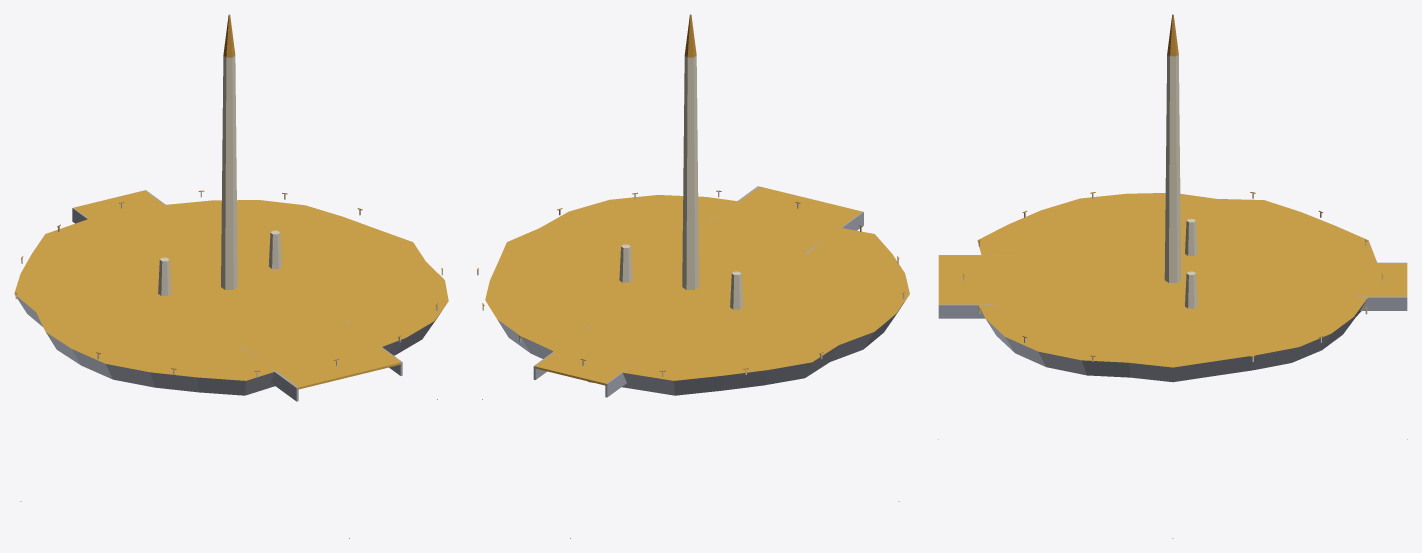
The model's file is chunk_es_temple_gate_a.fbx.
3 renders of one model, left to right at view 1: azimuth 30°, elevation 25°; view 2: azimuth 150°, elevation 25°; view 3: azimuth 270°, elevation 25°, orthographic. The views are drawn at different scales.
Parts seen in each view (by area): view 1: ES_TEMPLE_GATE_A; view 2: ES_TEMPLE_GATE_A; view 3: ES_TEMPLE_GATE_A.
Boxes of the visible parts, left/top/right/bottom form: ES_TEMPLE_GATE_A: left=14, top=14, right=448, bottom=538; ES_TEMPLE_GATE_A: left=477, top=14, right=909, bottom=538; ES_TEMPLE_GATE_A: left=938, top=14, right=1407, bottom=538.
Size of the model in its own units: 256 by 256 by 256.
